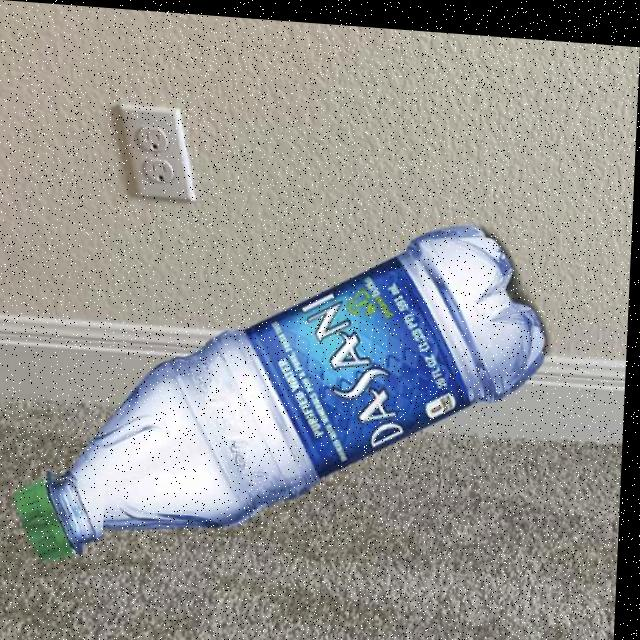plasticbottlecap: (8, 468, 111, 574)
